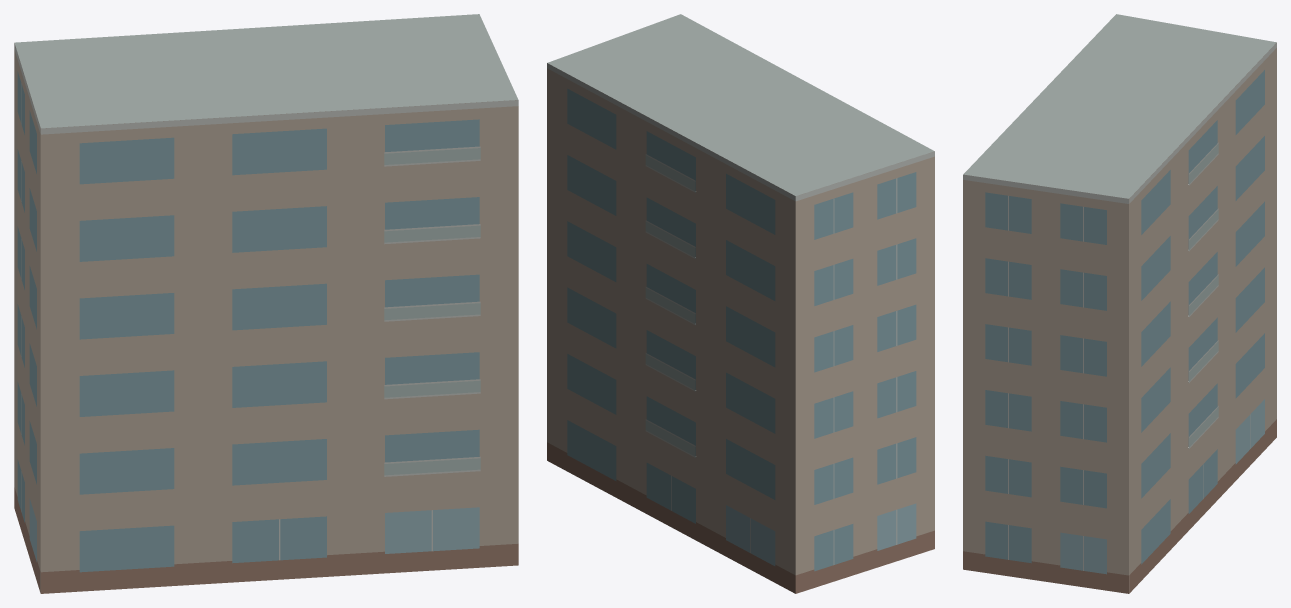
File: survey-upis-32875209.glb
3 views of the same model, side by side, from view 1: azimuth 30°, elevation 25°; view 2: azimuth 150°, elevation 25°; view 3: azimuth 270°, elevation 25° (orthographic). The views are drawn at different scales.
Parts seen in each view (by area): view 1: survey-upis-32875209.tmp; view 2: survey-upis-32875209.tmp; view 3: survey-upis-32875209.tmp.
Part boxes in pixels (box(x1,y1,x2,y2)): survey-upis-32875209.tmp: box(14, 14, 518, 593); survey-upis-32875209.tmp: box(547, 14, 934, 593); survey-upis-32875209.tmp: box(963, 14, 1276, 593).
Size of the model in its own units: 18.37 by 18.3 by 13.18.
